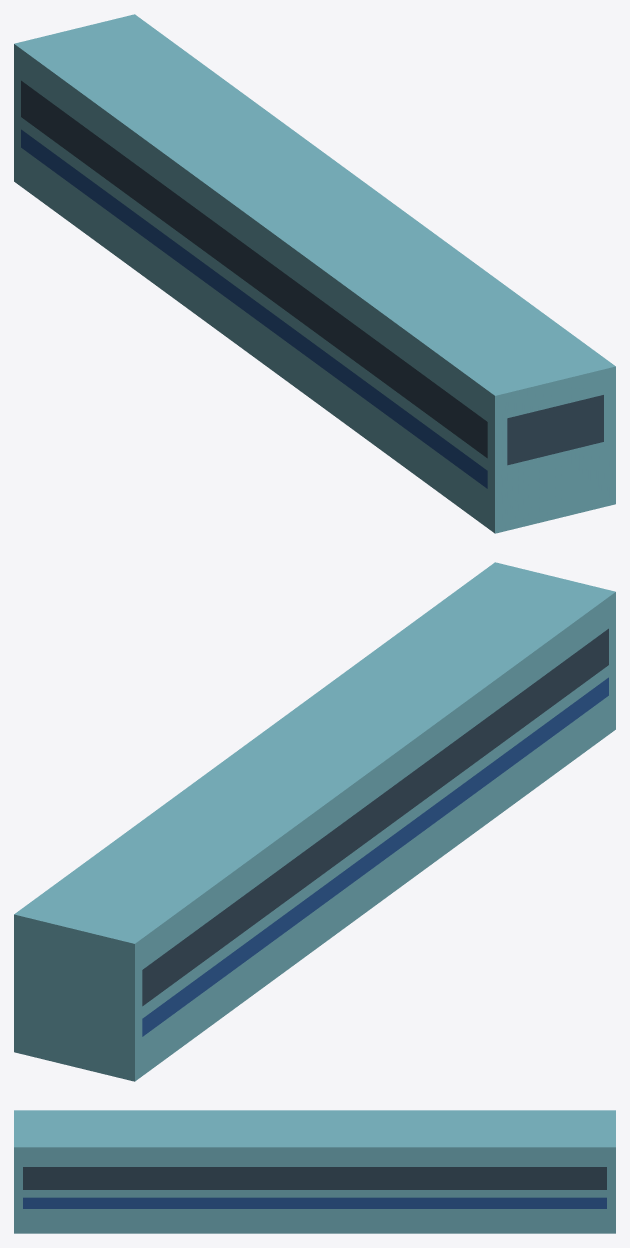
The model's file is 326_far.fbx.
3 views of the same model, one above another, from view 1: azimuth 30°, elevation 25°; view 2: azimuth 150°, elevation 25°; view 3: azimuth 270°, elevation 25° (orthographic). The views are drawn at different scales.
Parts seen in each view (by area): view 1: 326_far; view 2: 326_far; view 3: 326_far.
Boxes of the visible parts, x1,y1,x2,y2 form: 326_far: (14, 14, 615, 533); 326_far: (14, 562, 615, 1081); 326_far: (14, 1110, 615, 1233).
Bounding box in the file's own units: 2.91 × 3.16 × 20.
